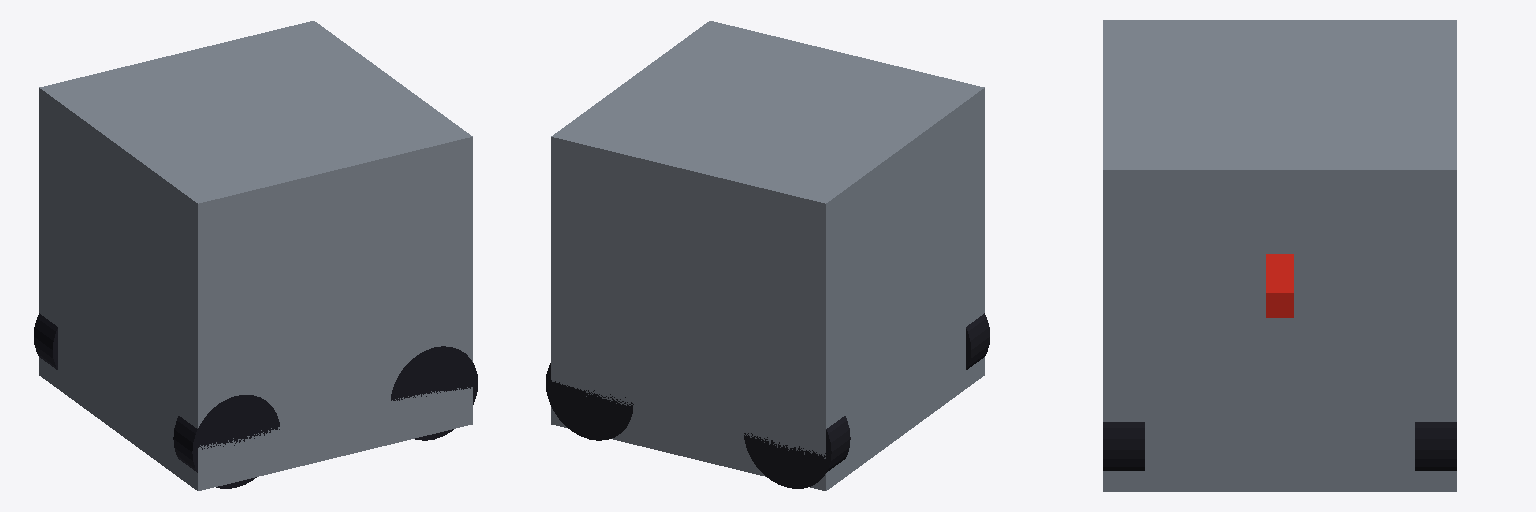
URDF robot description (planar_cart):
<?xml version="1.0"?>
<!--
  MineWorld F2 pilot URDF: planar cart (visual + inertial).
  Simulation authority remains MJCF (see planar_cart.xml), produced by
  mujoco/scripts/urdf_to_mjcf_planar.py — same slide_x/slide_y/yaw_z control
  contract as box_mech. Wheels are fixed visuals in URDF; MJCF adds planar
  free-plane joints for POC velocity teleop.
-->
<robot name="planar_cart">
  <link name="base_link">
    <inertial>
      <origin xyz="0 0 0" rpy="0 0 0"/>
      <mass value="10.0"/>
      <inertia ixx="0.2" ixy="0" ixz="0" iyy="0.2" iyz="0" izz="0.2"/>
    </inertial>
    <visual>
      <origin xyz="0 0 0" rpy="0 0 0"/>
      <geometry>
        <box size="0.5 0.5 0.5"/>
      </geometry>
      <material name="chassis_mat">
        <color rgba="0.55 0.58 0.62 1"/>
      </material>
    </visual>
    <collision>
      <origin xyz="0 0 0" rpy="0 0 0"/>
      <geometry>
        <box size="0.5 0.5 0.5"/>
      </geometry>
    </collision>
  </link>

  <link name="wheel_fl">
    <visual>
      <origin xyz="0 0 0" rpy="1.5708 0 0"/>
      <geometry>
        <cylinder radius="0.08" length="0.06"/>
      </geometry>
      <material name="wheel_mat">
        <color rgba="0.15 0.15 0.18 1"/>
      </material>
    </visual>
  </link>
  <joint name="wheel_fl_fixed" type="fixed">
    <parent link="base_link"/>
    <child link="wheel_fl"/>
    <origin xyz="0.18 0.22 -0.18" rpy="0 0 0"/>
  </joint>

  <link name="wheel_fr">
    <visual>
      <origin xyz="0 0 0" rpy="1.5708 0 0"/>
      <geometry>
        <cylinder radius="0.08" length="0.06"/>
      </geometry>
      <material name="wheel_mat">
        <color rgba="0.15 0.15 0.18 1"/>
      </material>
    </visual>
  </link>
  <joint name="wheel_fr_fixed" type="fixed">
    <parent link="base_link"/>
    <child link="wheel_fr"/>
    <origin xyz="0.18 -0.22 -0.18" rpy="0 0 0"/>
  </joint>

  <link name="wheel_rl">
    <visual>
      <origin xyz="0 0 0" rpy="1.5708 0 0"/>
      <geometry>
        <cylinder radius="0.08" length="0.06"/>
      </geometry>
      <material name="wheel_mat">
        <color rgba="0.15 0.15 0.18 1"/>
      </material>
    </visual>
  </link>
  <joint name="wheel_rl_fixed" type="fixed">
    <parent link="base_link"/>
    <child link="wheel_rl"/>
    <origin xyz="-0.18 0.22 -0.18" rpy="0 0 0"/>
  </joint>

  <link name="wheel_rr">
    <visual>
      <origin xyz="0 0 0" rpy="1.5708 0 0"/>
      <geometry>
        <cylinder radius="0.08" length="0.06"/>
      </geometry>
      <material name="wheel_mat">
        <color rgba="0.15 0.15 0.18 1"/>
      </material>
    </visual>
  </link>
  <joint name="wheel_rr_fixed" type="fixed">
    <parent link="base_link"/>
    <child link="wheel_rr"/>
    <origin xyz="-0.18 -0.22 -0.18" rpy="0 0 0"/>
  </joint>

  <link name="nose">
    <visual>
      <origin xyz="0 0 0" rpy="0 0 0"/>
      <geometry>
        <box size="0.16 0.04 0.04"/>
      </geometry>
      <material name="nose_mat">
        <color rgba="0.85 0.2 0.15 1"/>
      </material>
    </visual>
  </link>
  <joint name="nose_fixed" type="fixed">
    <parent link="base_link"/>
    <child link="nose"/>
    <origin xyz="0.3 0 0.1" rpy="0 0 0"/>
  </joint>
</robot>

--- What the picture shows (computed from the rendered views, not written in the file) ---
The picture shows the robot from 3 angles, left to right: view 1: azimuth 30°, elevation 25°; view 2: azimuth 150°, elevation 25°; view 3: azimuth 270°, elevation 25°; orthographic projection.
Robot: planar_cart — 6 links, 5 joints (5 fixed); root link base_link; default pose: every joint at zero.
Links seen in each view (by area): view 1: base_link, wheel_rr, wheel_fr, wheel_rl; view 2: base_link, wheel_rl, wheel_fl, wheel_rr; view 3: base_link, wheel_fl, wheel_fr, nose.
Link boxes in pixels (bbox=[...]): base_link: bbox=[39, 21, 472, 490]; wheel_rr: bbox=[173, 395, 279, 488]; wheel_fr: bbox=[391, 346, 477, 440]; wheel_rl: bbox=[34, 313, 57, 369]; base_link: bbox=[551, 21, 984, 490]; wheel_rl: bbox=[744, 416, 850, 488]; wheel_fl: bbox=[546, 363, 633, 440]; wheel_rr: bbox=[966, 313, 989, 369]; base_link: bbox=[1103, 20, 1456, 491]; wheel_fl: bbox=[1415, 422, 1456, 470]; wheel_fr: bbox=[1103, 422, 1144, 470]; nose: bbox=[1266, 254, 1293, 317].
Size in the robot's own frame: 0.64 by 0.5 by 0.51 metres.
Geometry: primitives only (box / cylinder / sphere), no mesh files.
